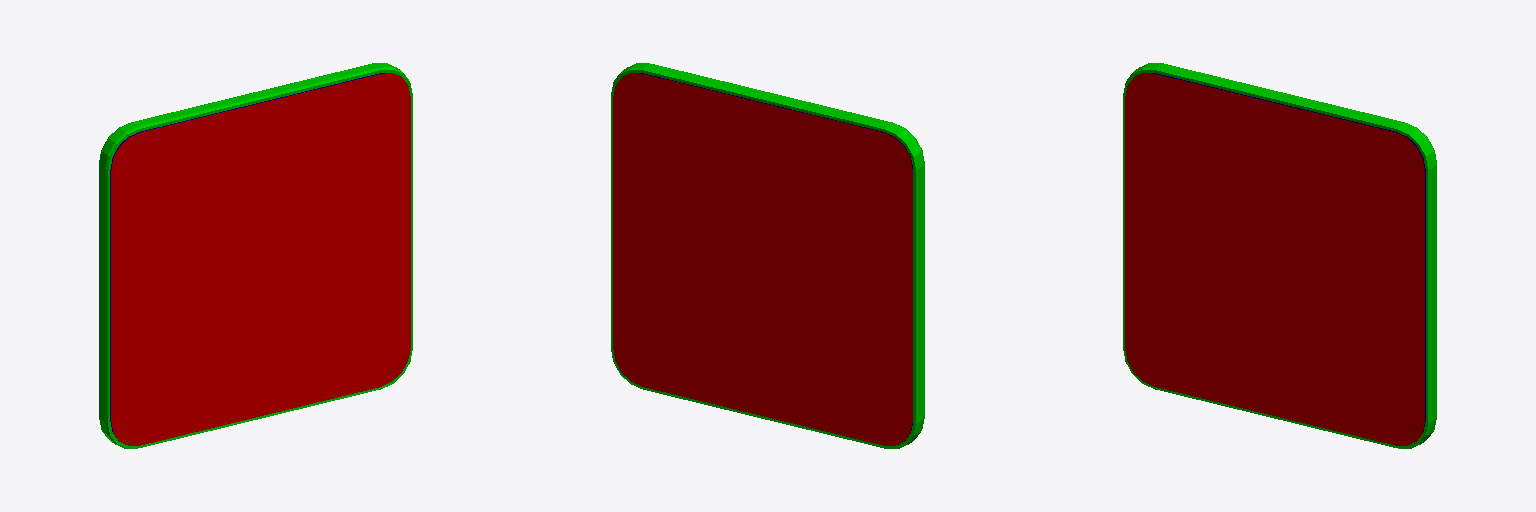
3 renders of one model, left to right at view 1: azimuth 30°, elevation 25°; view 2: azimuth 150°, elevation 25°; view 3: azimuth 330°, elevation 25°, orthographic.
Parts seen in each view (by area): view 1: big_image_Untitled, big_frame_Untitled.002; view 2: big_image_Untitled, big_frame_Untitled.002; view 3: big_image_Untitled, big_frame_Untitled.002.
Boxes of the visible parts, box(x1,y1,x2,y2) form: big_image_Untitled: box(111, 73, 410, 445); big_frame_Untitled.002: box(99, 63, 412, 448); big_image_Untitled: box(613, 73, 912, 445); big_frame_Untitled.002: box(611, 63, 924, 448); big_image_Untitled: box(1125, 73, 1424, 445); big_frame_Untitled.002: box(1123, 63, 1436, 448).
Size of the model in its own units: 1.89 by 1.89 by 0.1062.